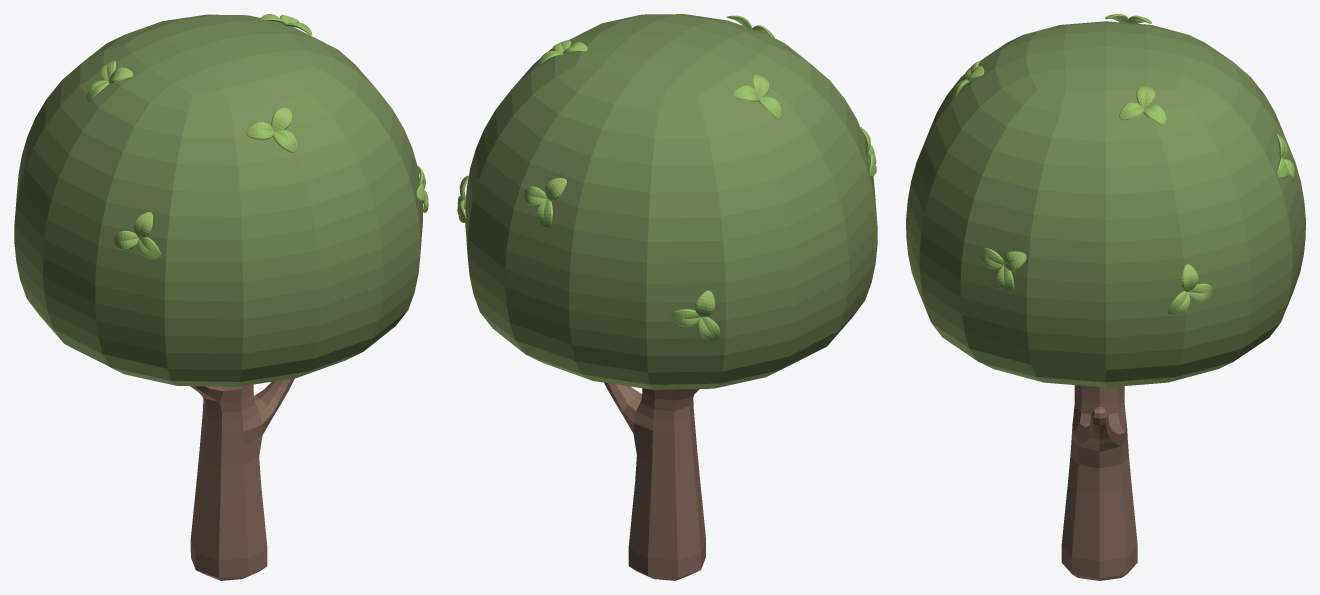
File: tree_one_round.fbx
3 renders of one model, left to right at view 1: azimuth 30°, elevation 25°; view 2: azimuth 150°, elevation 25°; view 3: azimuth 270°, elevation 25°, orthographic. The views are drawn at different scales.
Visible parts, largest first — view 1: Cube.128, Cube.127, Cube.131, Cube.132, Cube.129; view 2: Cube.128, Cube.127, Cube.016, Cube.015, Cube.129; view 3: Cube.128, Cube.127, Cube.133, Cube.134, Cube.130.
Boxes of the visible parts, x1=… form: Cube.128: x1=14, y1=14, x2=422, y2=386; Cube.127: x1=190, y1=378, x2=294, y2=580; Cube.131: x1=246, y1=107, x2=297, y2=152; Cube.132: x1=113, y1=212, x2=161, y2=259; Cube.129: x1=87, y1=60, x2=133, y2=102; Cube.128: x1=465, y1=14, x2=877, y2=389; Cube.127: x1=604, y1=382, x2=705, y2=580; Cube.016: x1=671, y1=290, x2=720, y2=340; Cube.015: x1=524, y1=178, x2=566, y2=228; Cube.129: x1=733, y1=74, x2=781, y2=119; Cube.128: x1=906, y1=21, x2=1305, y2=387; Cube.127: x1=1061, y1=385, x2=1137, y2=580; Cube.133: x1=981, y1=248, x2=1026, y2=293; Cube.134: x1=1168, y1=264, x2=1212, y2=314; Cube.130: x1=1119, y1=86, x2=1166, y2=124.
Bounding box in the file's own units: 4.45 × 4.45 × 6.41.
